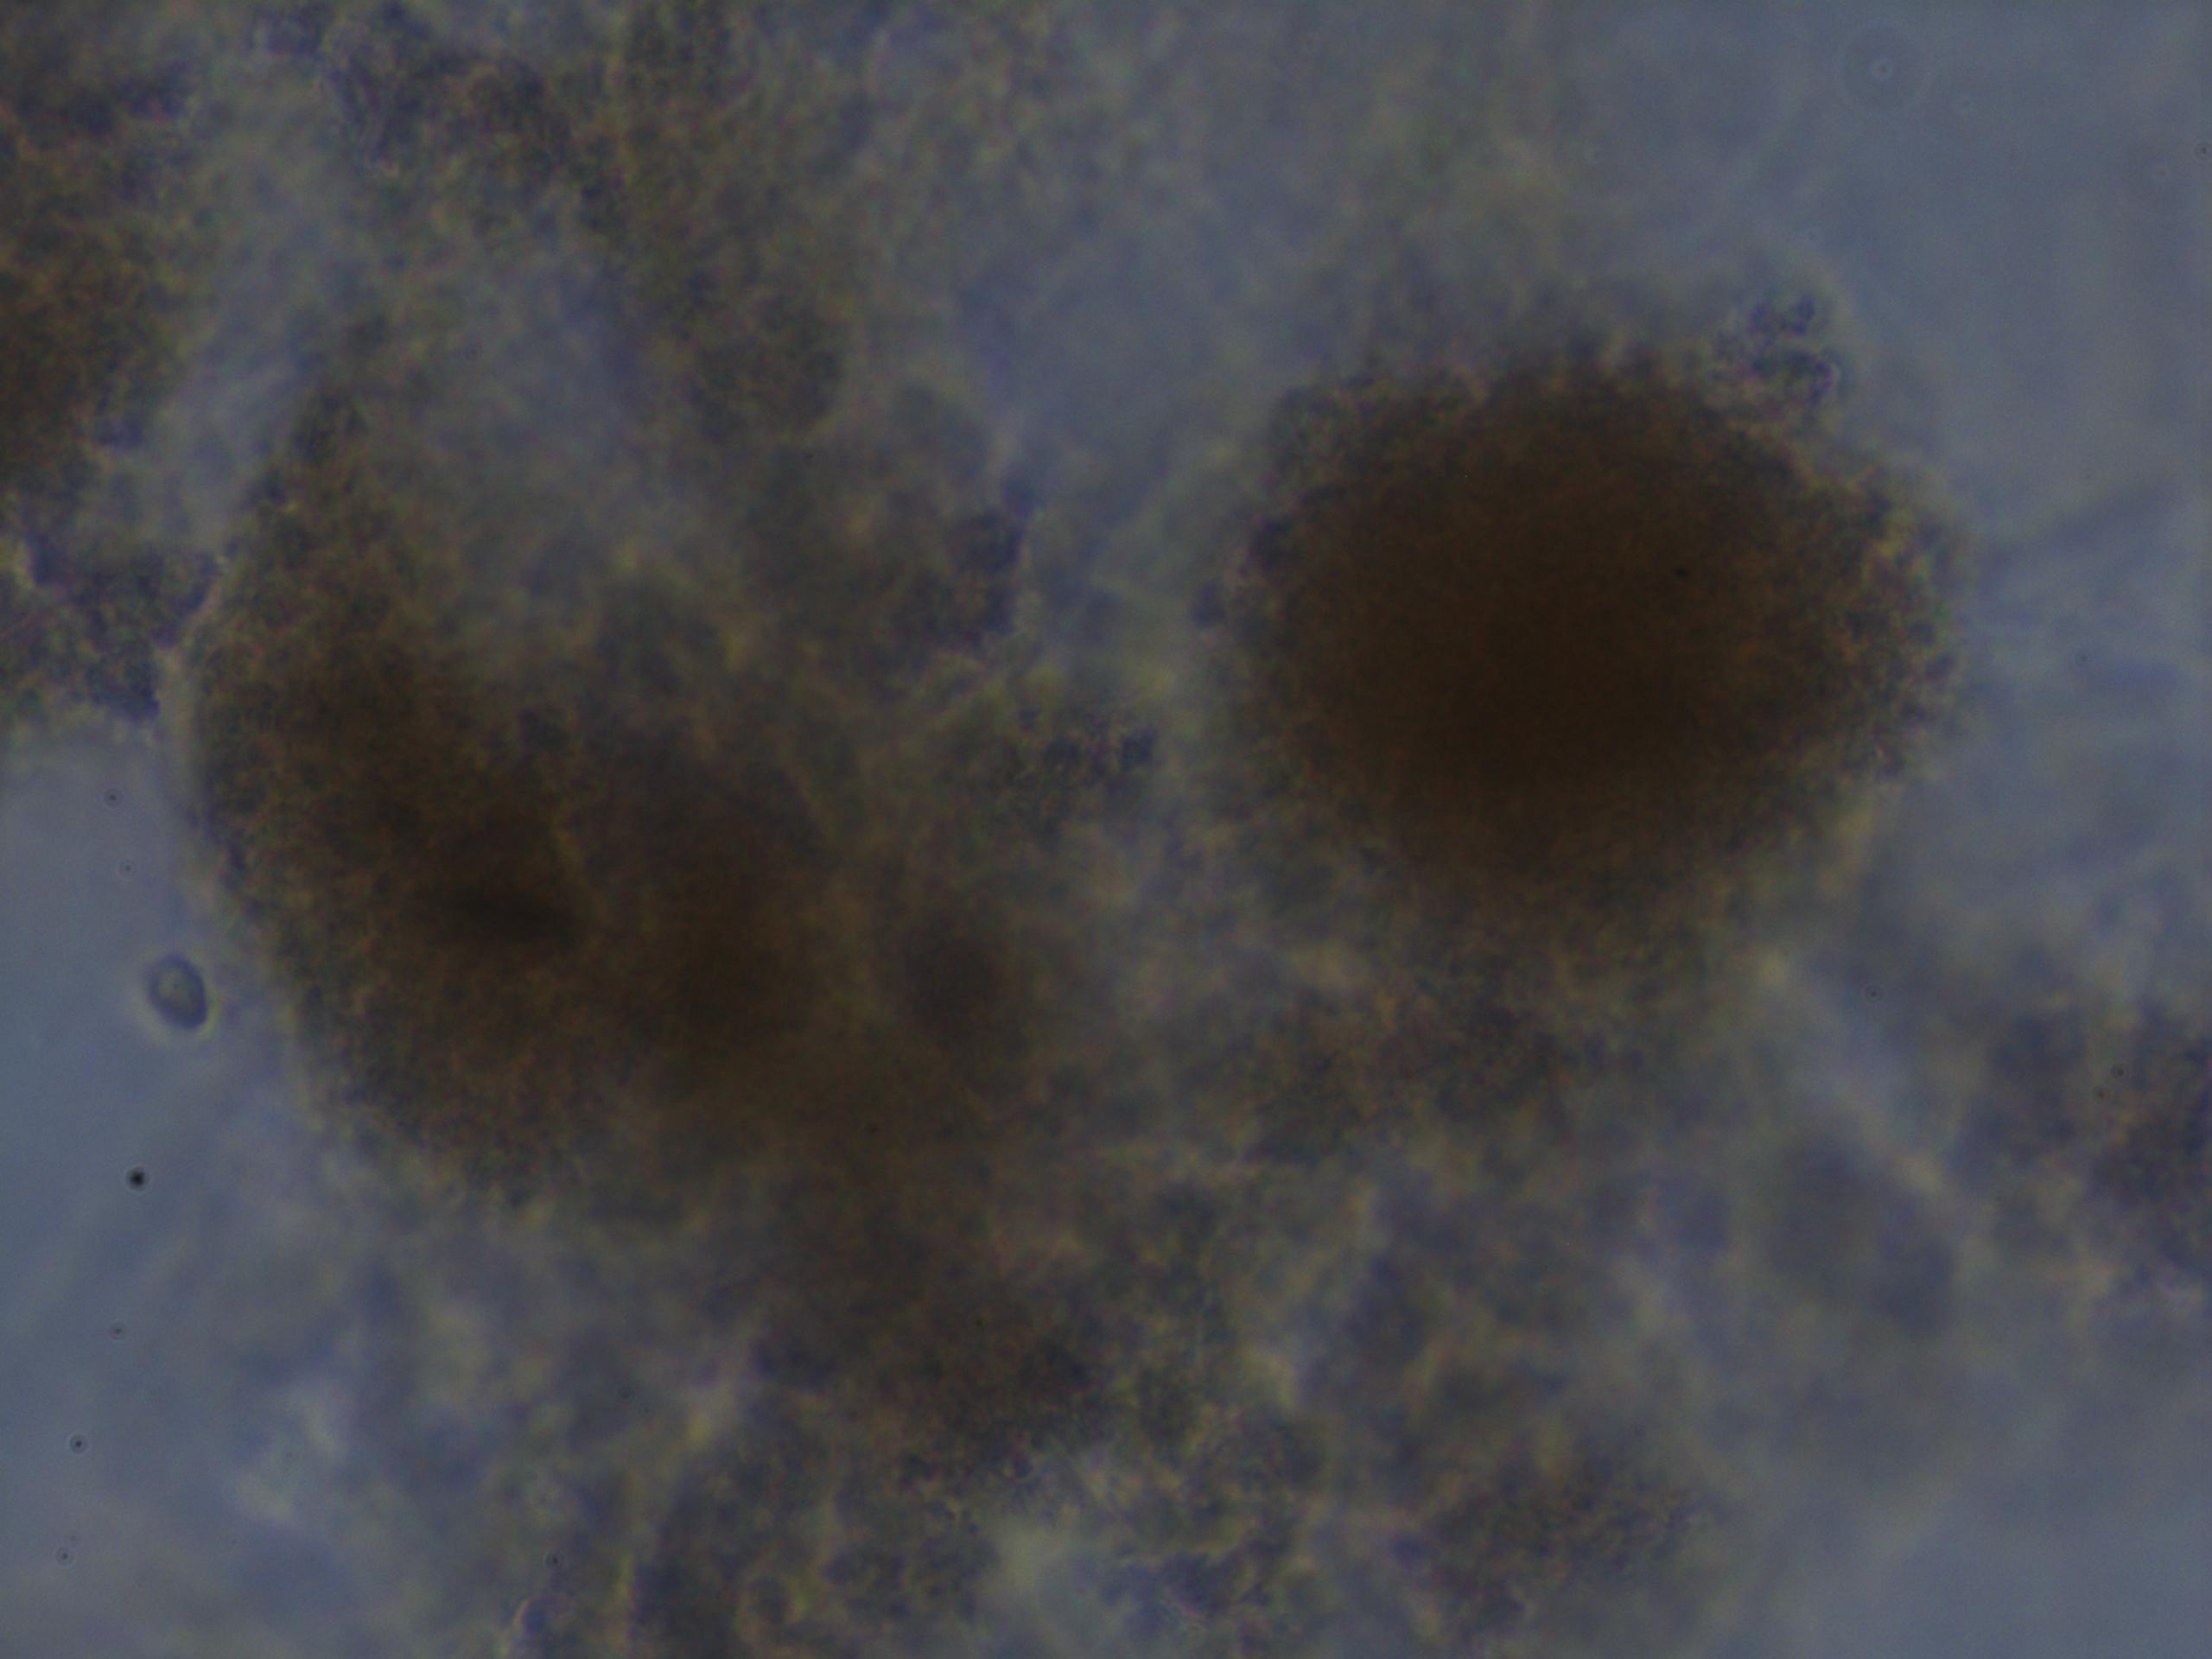spherical_floc: (1141, 331, 1975, 1025)
